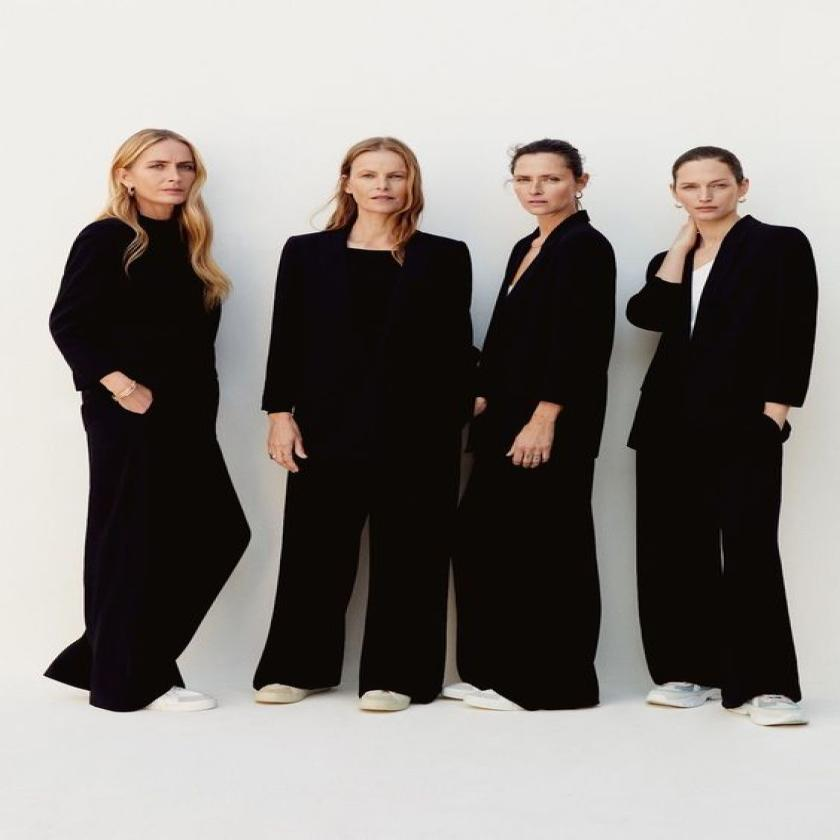Sin_casco: (334, 133, 429, 240), (112, 125, 207, 225), (503, 134, 591, 234), (665, 146, 760, 228)
